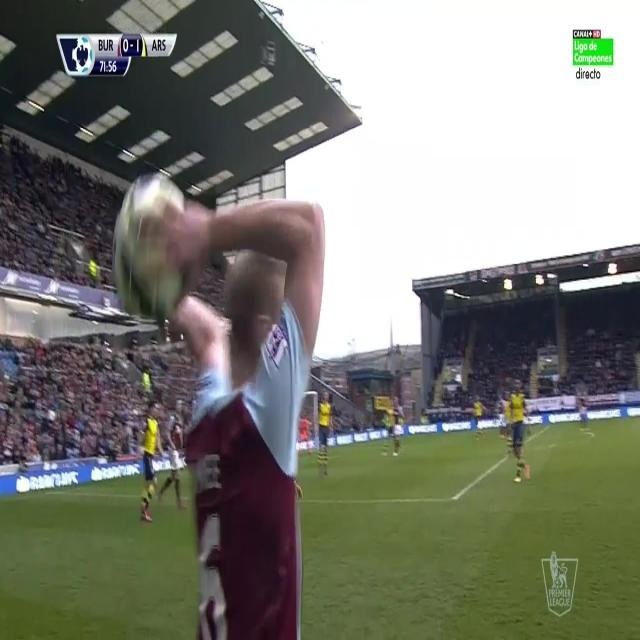Ball: (110, 170, 190, 316)
Player: (145, 185, 330, 640), (137, 399, 163, 527), (158, 399, 185, 515), (506, 380, 534, 484), (317, 388, 334, 478)
